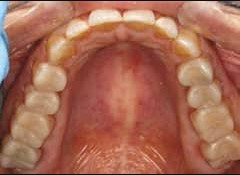UL1BC_healthy: (177, 59, 214, 87)
UL1M_healthy: (194, 104, 235, 140)
UL2BC_healthy: (188, 85, 222, 106)
UL2M_healthy: (204, 137, 240, 167)
ULCI_healthy: (123, 8, 157, 32)
ULC_healthy: (174, 32, 203, 58)
ULLI_healthy: (157, 17, 179, 40)
UR1BC_healthy: (33, 63, 67, 92)
UR1M_healthy: (11, 106, 54, 146)
UR2BC_healthy: (25, 86, 61, 114)
UR2M_healthy: (1, 138, 41, 170)
URCI_healthy: (89, 8, 121, 32)
URC_healthy: (47, 33, 76, 65)
URLI_healthy: (66, 20, 89, 37)
